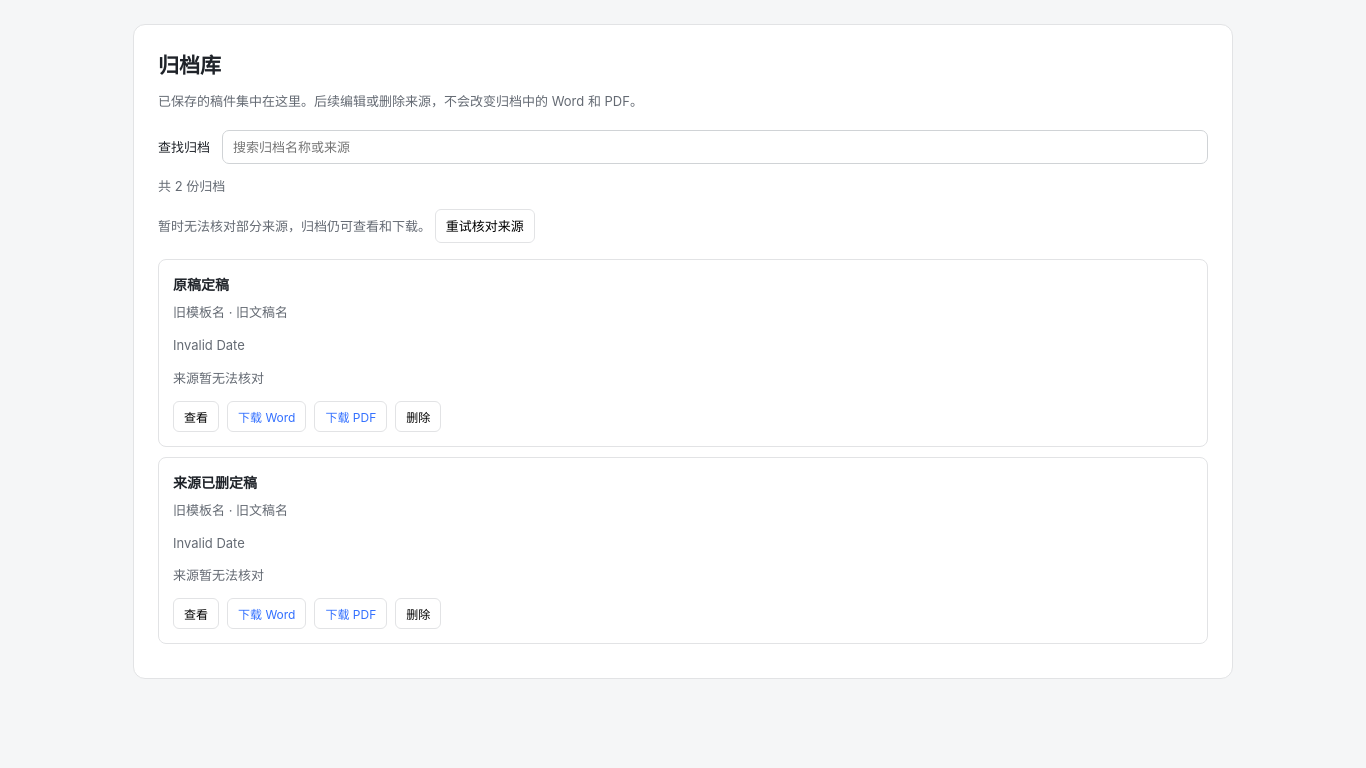
Test: 独立归档库 › 来源读取失败不误判已删除，重试后恢复链接且不影响归档预览下载
The image size is (1366, 768).
Expected: the text "来源文稿已不存在" is not shown
Expected: the number of links is 4, [227,401,306,432]; [314,401,387,432]; [227,598,306,629]; [314,598,387,629]
What coordinates should you click on to do the following:
click the button "重试核对来源"
I would click on:
 (485, 226)
Its box is [435,209,535,243].
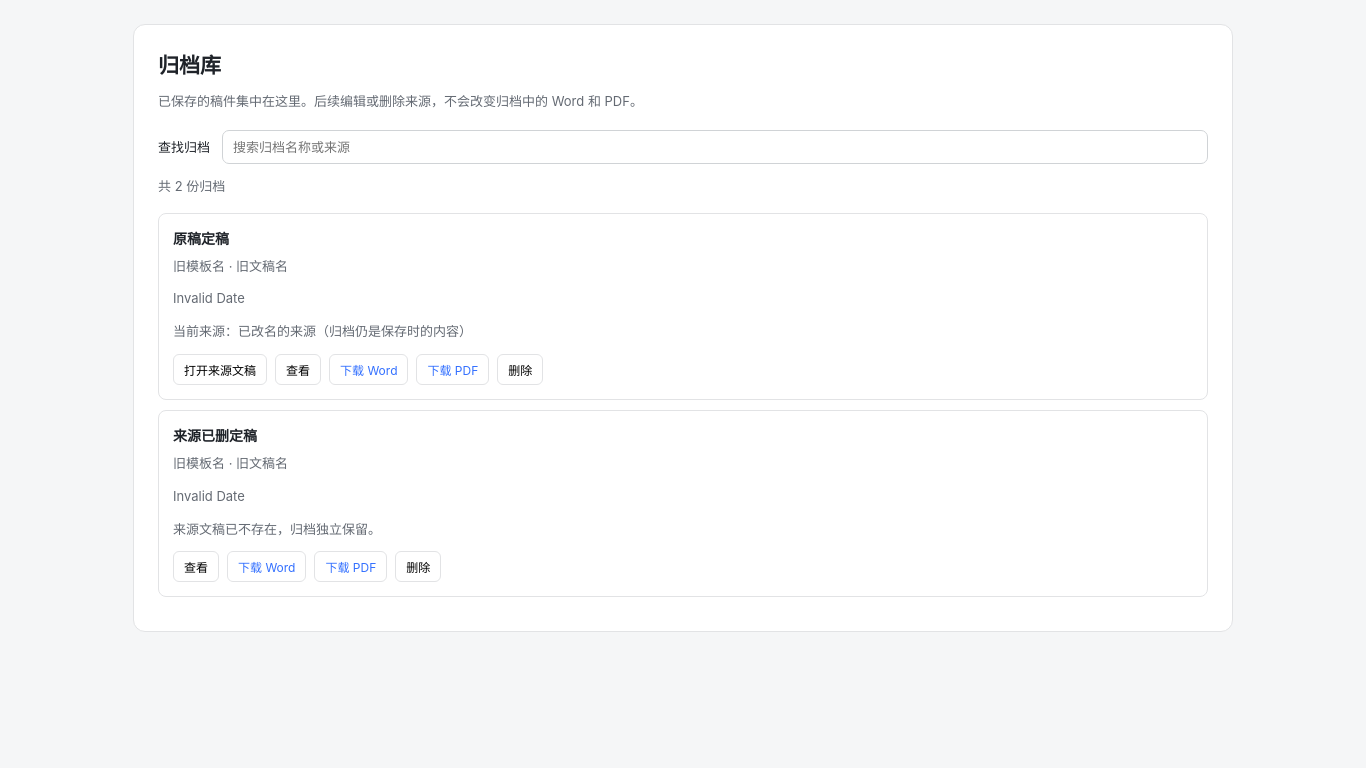
Expected: the text "打开来源文稿" is shown, [173,354,267,385]
